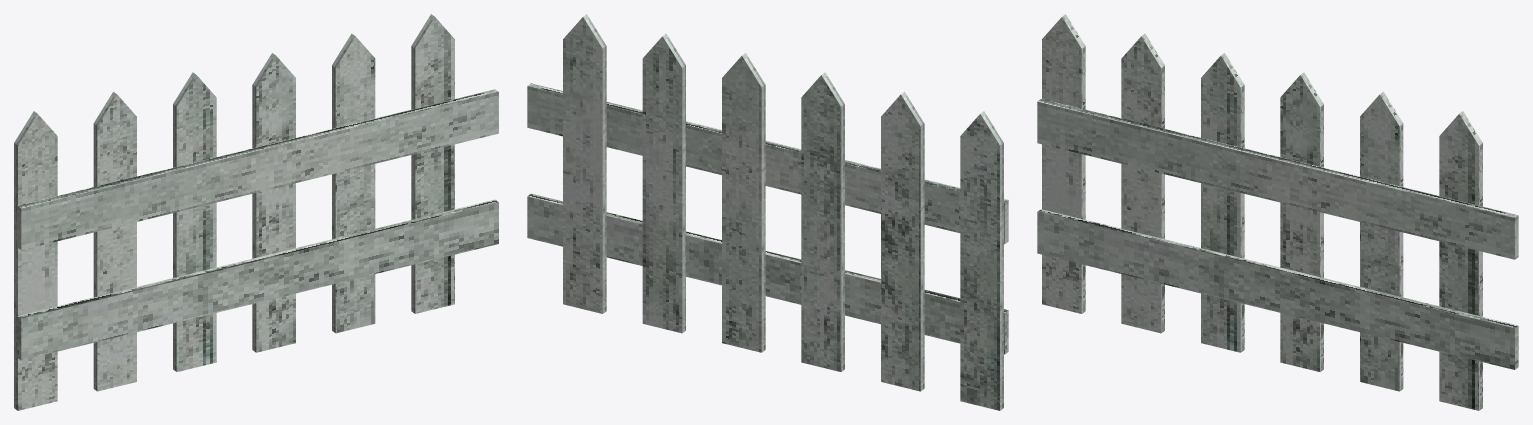
Rendered from white_picket_fence_open_left.glb.
3 views of the same model, side by side, from view 1: azimuth 30°, elevation 25°; view 2: azimuth 150°, elevation 25°; view 3: azimuth 330°, elevation 25° (orthographic).
Visible parts, largest first — view 1: white_picket_fence_open_left; view 2: white_picket_fence_open_left; view 3: white_picket_fence_open_left.
Part boxes in pixels (x1,y1,x2,y2): white_picket_fence_open_left: [14, 14, 498, 410]; white_picket_fence_open_left: [527, 14, 1008, 410]; white_picket_fence_open_left: [1037, 14, 1518, 410].
Bounding box in the file's own units: 2.16 × 1.27 × 0.0622.
Materials: 1 (1 with a texture image).
